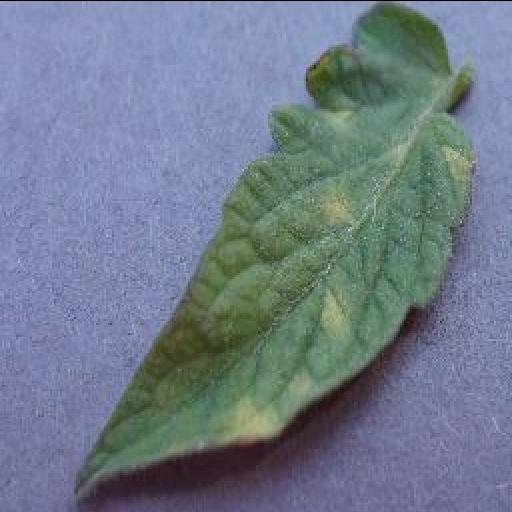disease_tomato: (70, 0, 476, 498)
